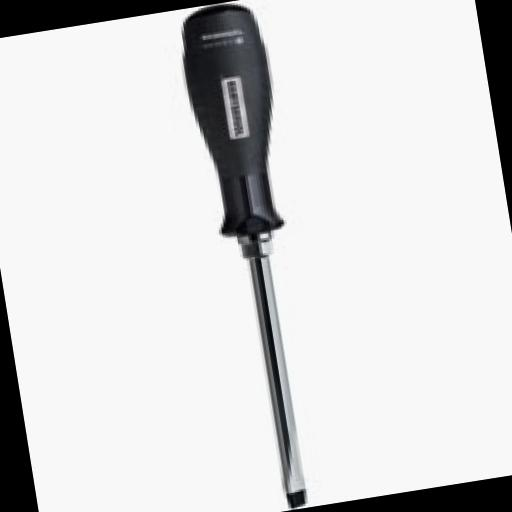screwdriver: (171, 0, 339, 512)
